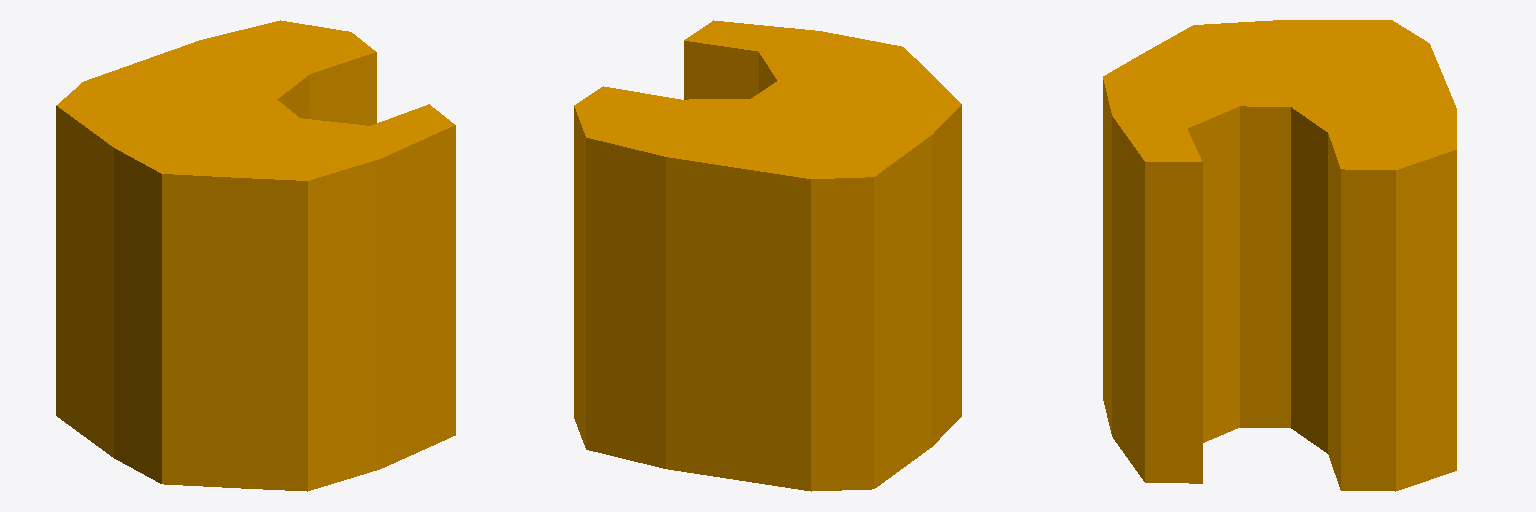
URDF robot description (object):
<?xml version="1.0"?>
<robot name="object">
  <link name="object">
    <visual>
      <origin xyz="0 0 0"/>
      <geometry>
        <mesh filename="meshes/polygon/poly_93_s.obj" scale=".03 .03 .03"/>
      </geometry>
    </visual>
    <collision>
  <origin xyz="0 0 0"/>
  <geometry>
    <mesh filename="meshes/polygon/poly_93_s_0decompose.obj" scale=".03 .03 .03"/>
<!--          <mesh filename="meshes/custom/obj0_ball.obj" scale=".05 .05 .05"/>-->
  </geometry>
</collision><collision>
  <origin xyz="0 0 0"/>
  <geometry>
    <mesh filename="meshes/polygon/poly_93_s_1decompose.obj" scale=".03 .03 .03"/>
<!--          <mesh filename="meshes/custom/obj0_ball.obj" scale=".05 .05 .05"/>-->
  </geometry>
</collision>

<!--    <collision>-->
<!--      <origin xyz="0 0 0"/>-->
<!--      <geometry>-->
<!--        <mesh filename="meshes/polygon/poly_93_s.obj" scale=".03 .03 .03"/>-->
<!--&lt;!&ndash;          <mesh filename="meshes/custom/obj0_ball.obj" scale=".05 .05 .05"/>&ndash;&gt;-->
<!--      </geometry>-->
<!--    </collision>-->
    <inertial>
      <density value="1000.0"/>
    </inertial>
  </link>
</robot>

--- Render facts (derived) ---
Views: 3 orthographic renders of the robot side by side, from view 1: azimuth 30°, elevation 25°; view 2: azimuth 150°, elevation 25°; view 3: azimuth 270°, elevation 25°.
Model object with 1 links and 0 joints (none), rooted at object, posed all joints at 0.
Visible links, largest first — view 1: object; view 2: object; view 3: object.
Link boxes in pixels (<box>): object: <box>56,20,455,491</box>; object: <box>574,20,961,491</box>; object: <box>1103,20,1456,491</box>.
Bounding box of the posed robot: 0.06 × 0.06 × 0.06 m (x, y, z).
1 mesh visuals loaded from 1 distinct referenced files (1 OBJ).
